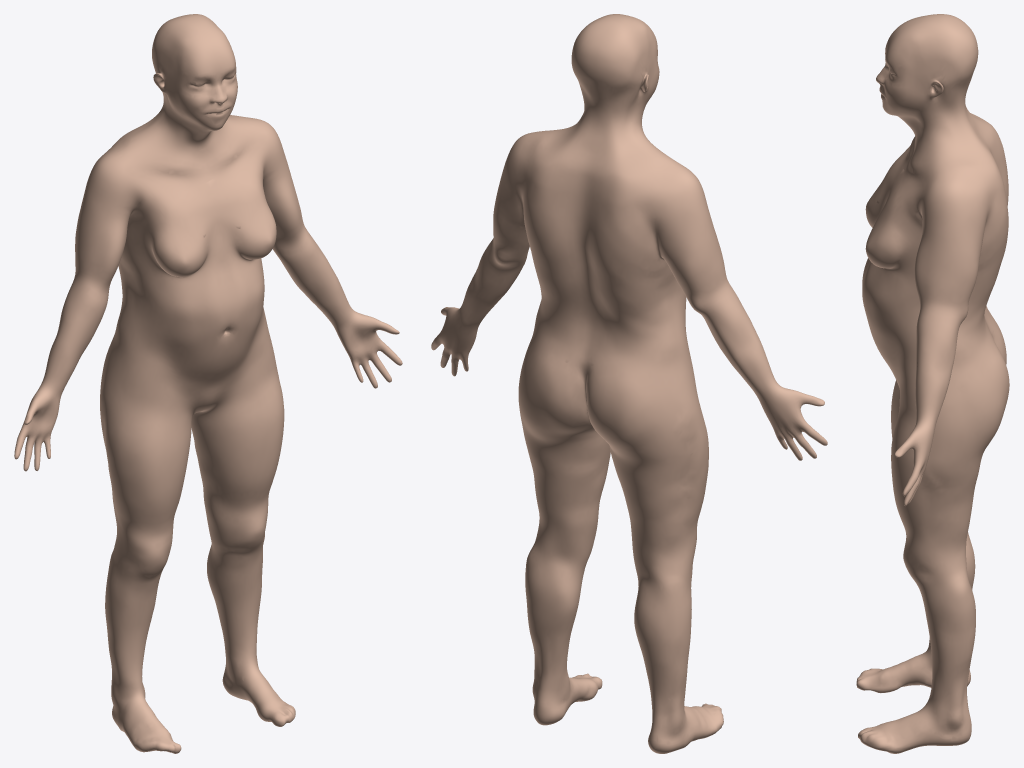
File: adult_female.surface.LOD0.glb
The picture shows the model from 3 angles, left to right: view 1: azimuth 30°, elevation 25°; view 2: azimuth 150°, elevation 25°; view 3: azimuth 270°, elevation 25°; orthographic projection. The views are drawn at different scales.
Parts seen in each view (by area): view 1: ADULT.FEMALE.SURFACE.SKIN; view 2: ADULT.FEMALE.SURFACE.SKIN; view 3: ADULT.FEMALE.SURFACE.SKIN.
Part boxes in pixels (x1,y1,x2,y2): ADULT.FEMALE.SURFACE.SKIN: (14, 14, 402, 753); ADULT.FEMALE.SURFACE.SKIN: (431, 14, 827, 753); ADULT.FEMALE.SURFACE.SKIN: (856, 14, 1009, 753).
Bounding box in the file's own units: 0.9671 × 1.67 × 0.3291.
